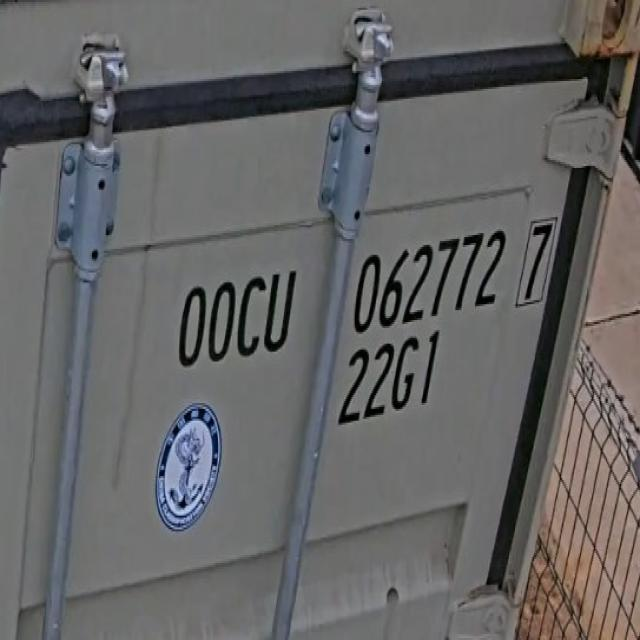dv: (513, 209, 559, 315)
owner: (172, 262, 300, 376)
serial: (347, 222, 509, 340)
size: (333, 327, 445, 431)
